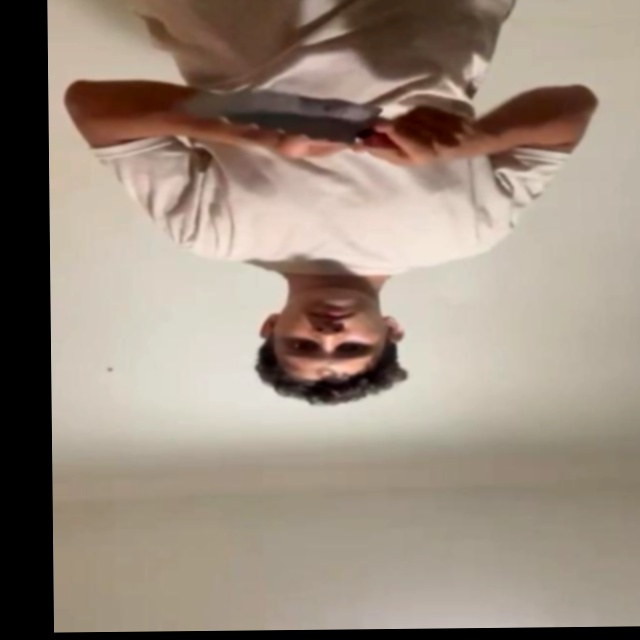Sharp-Object: (164, 80, 374, 145)
